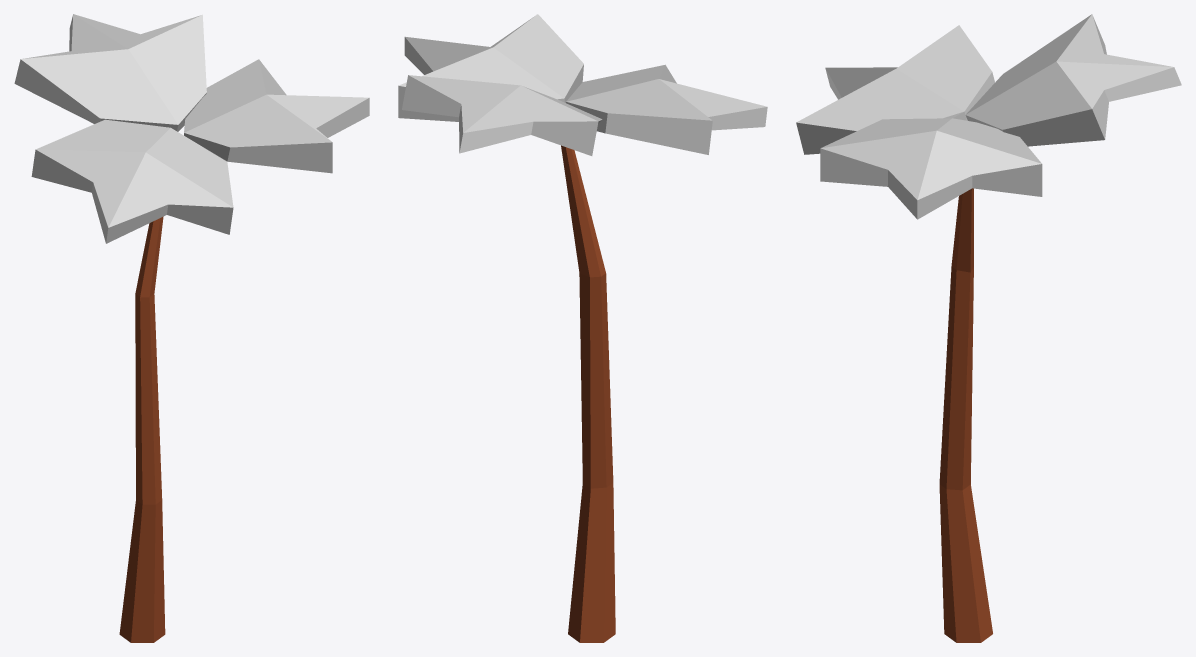
The model's file is MapleSapling.fbx.
3 views of the same model, side by side, from view 1: azimuth 30°, elevation 25°; view 2: azimuth 150°, elevation 25°; view 3: azimuth 270°, elevation 25° (orthographic). The views are drawn at different scales.
Parts seen in each view (by area): view 1: Cube; view 2: Cube; view 3: Cube.
Part boxes in pixels (<box>): Cube: <box>14,14,369,642</box>; Cube: <box>398,14,767,642</box>; Cube: <box>796,14,1181,642</box>.
Bounding box in the file's own units: 33.62 × 33.43 × 56.07.
